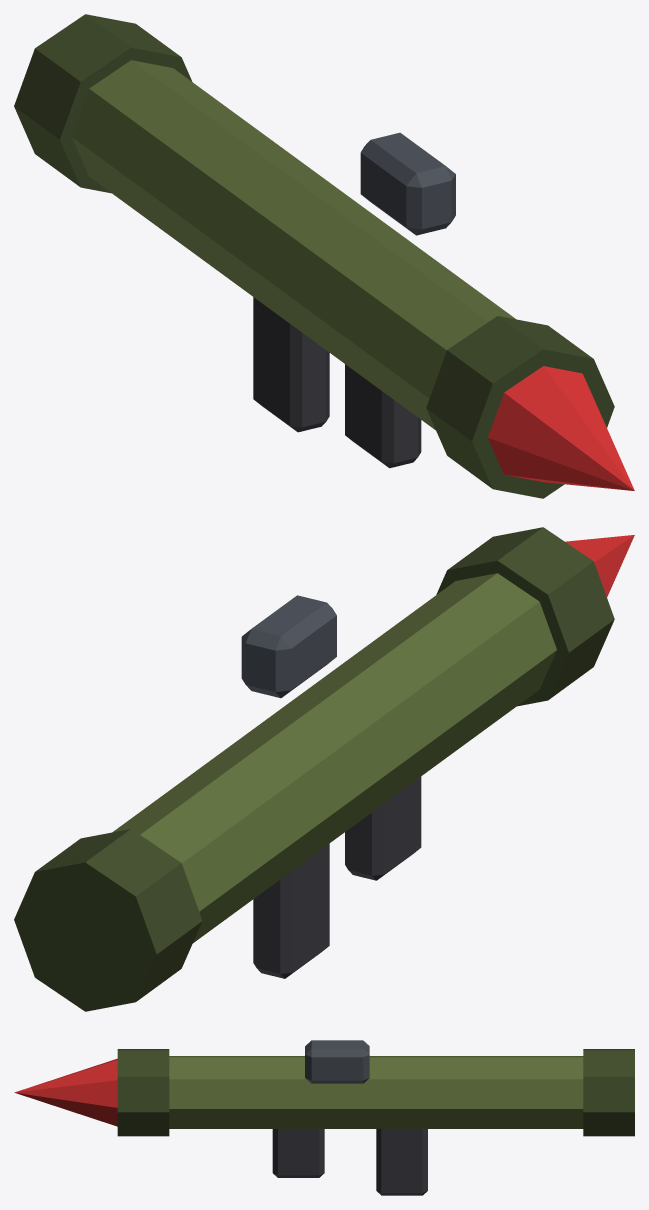
File: RocketLauncher.fbx
3 views of the same model, one above another, from view 1: azimuth 30°, elevation 25°; view 2: azimuth 150°, elevation 25°; view 3: azimuth 270°, elevation 25° (orthographic). The views are drawn at different scales.
Parts seen in each view (by area): view 1: RocketLauncher; view 2: RocketLauncher; view 3: RocketLauncher.
Boxes of the visible parts, x1,y1,x2,y2 form: RocketLauncher: [14, 14, 634, 498]; RocketLauncher: [14, 527, 634, 1011]; RocketLauncher: [14, 1040, 634, 1195].
Size of the model in its own units: 0.785 by 1.4 by 4.8.
1 material, 1 textured.
